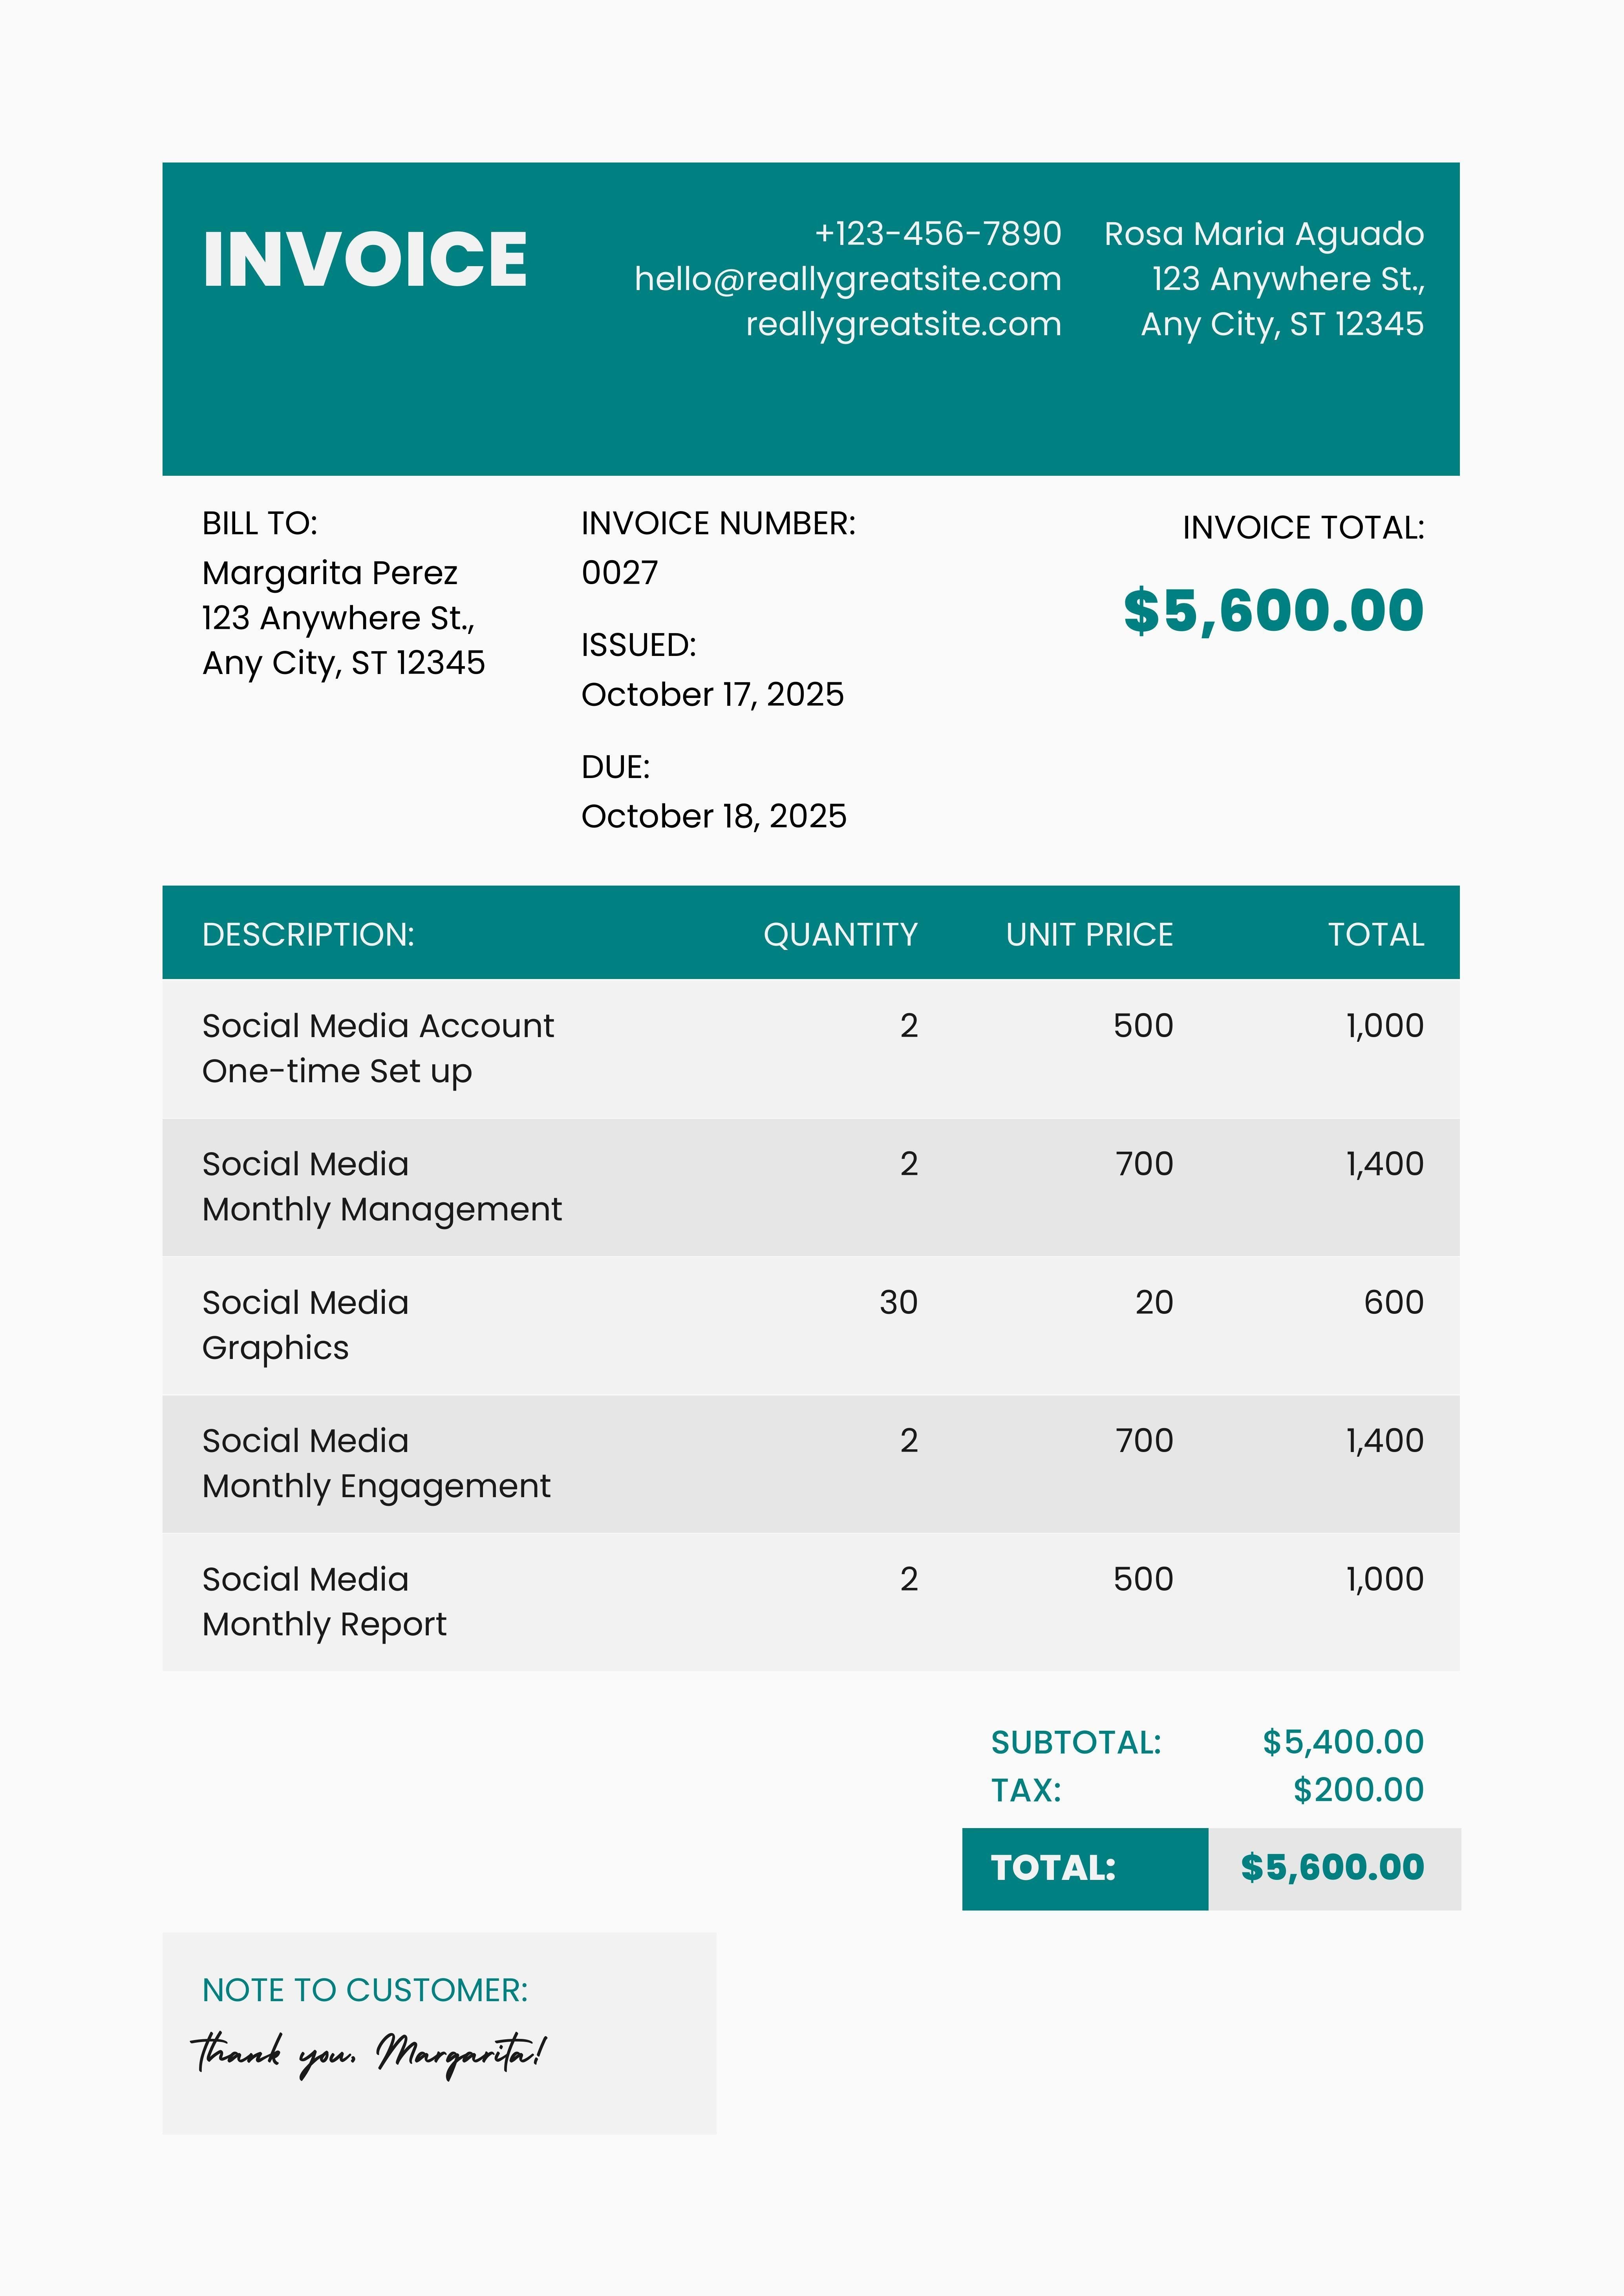ROI: (158, 887, 1454, 1671), (557, 495, 905, 845), (958, 1704, 1454, 1913), (1081, 195, 1461, 379), (178, 494, 494, 703)
